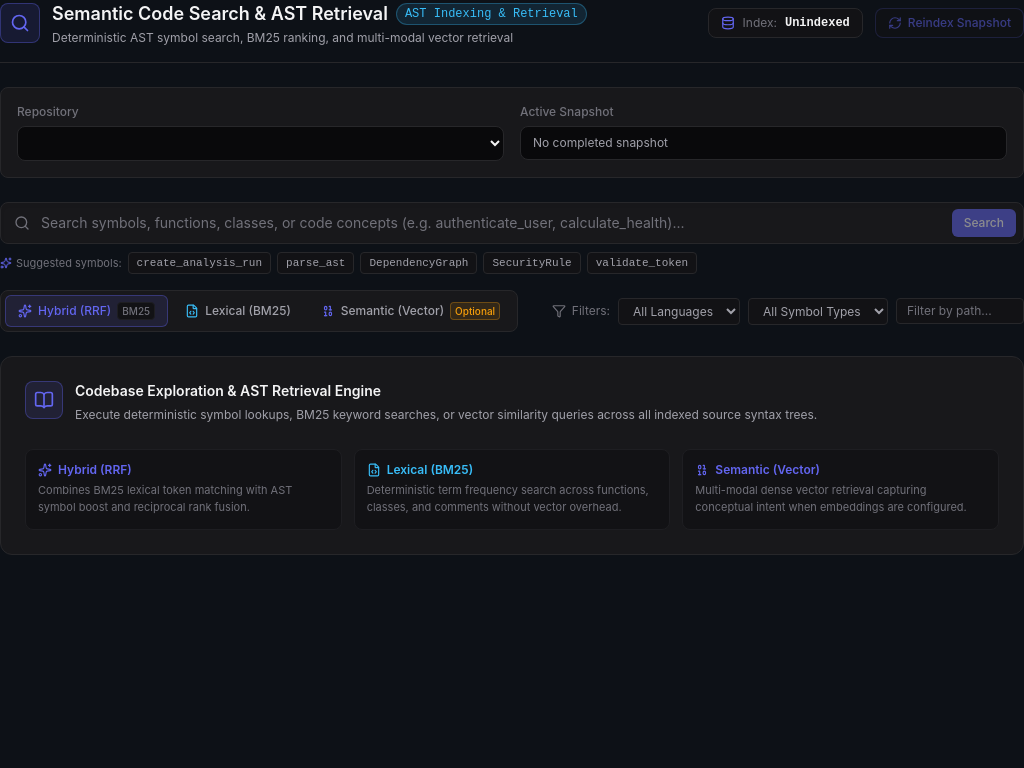
Test: CodeSearchPage Component › opens chunk inspection modal when Inspect button is clicked
Replace the text in the field with placeholder "Search symbols, functions, classes" with "calculate_metrics" at [512, 223], box [0, 202, 1023, 244]
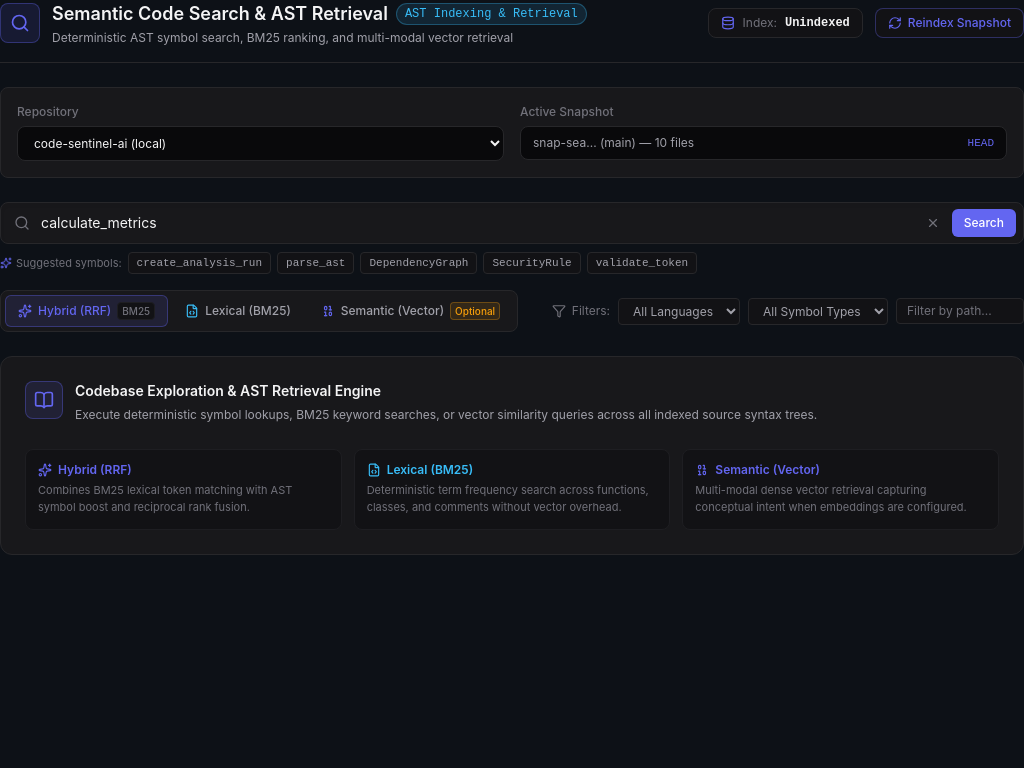
Click the button "Search" at [984, 223], box [952, 209, 1016, 237]
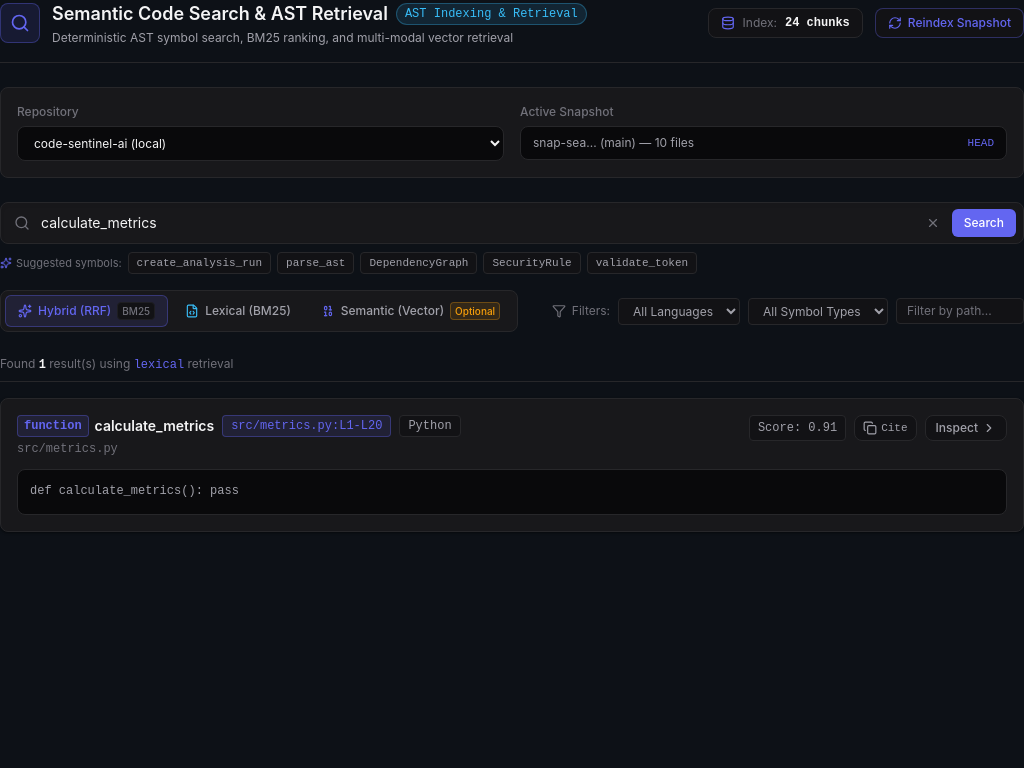
Expected: the text "Inspect" is shown, [936, 420, 978, 436]
Click the button "Inspect" at [966, 428], box [925, 415, 1007, 441]
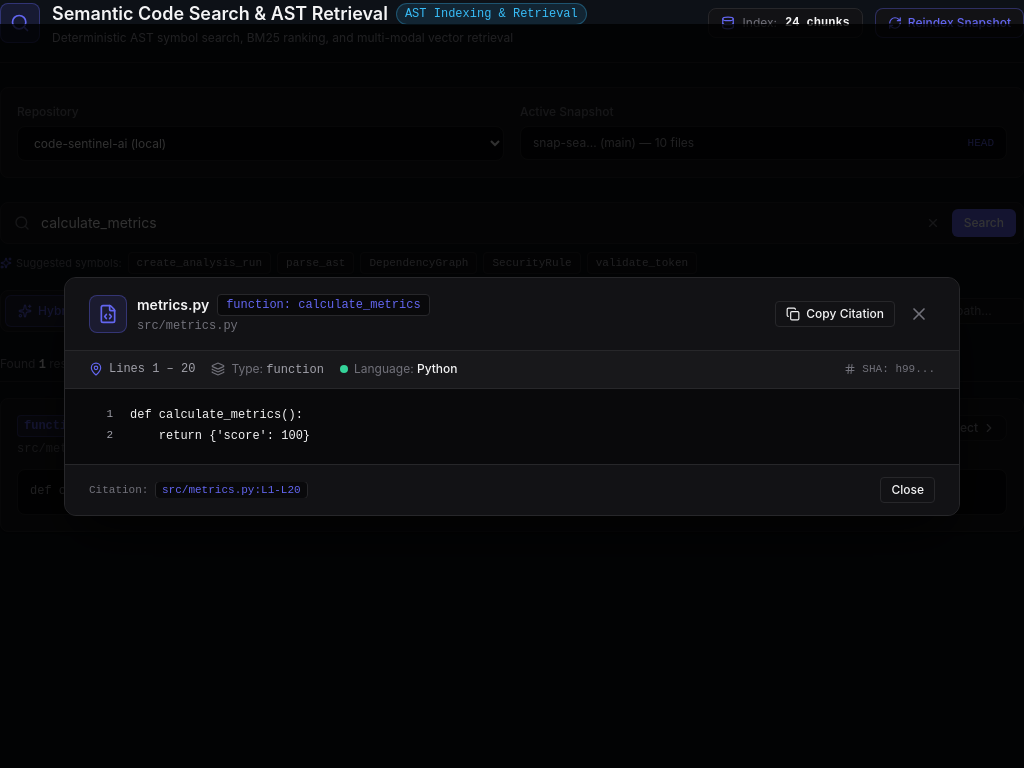
Expected: the text "Copy Citation" is shown, [806, 306, 884, 320]
Expected: the text "Lines 1 – 20" is shown, [109, 361, 195, 377]
